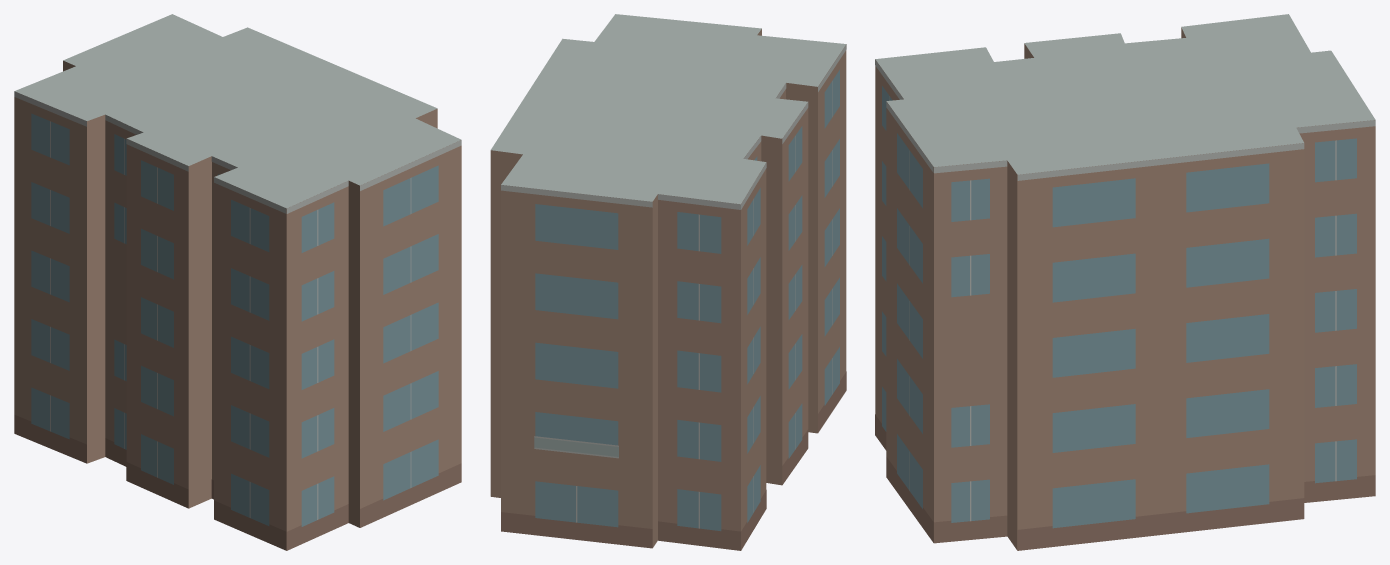
File: survey-upis-32710401.glb
3 renders of one model, left to right at view 1: azimuth 30°, elevation 25°; view 2: azimuth 150°, elevation 25°; view 3: azimuth 270°, elevation 25°, orthographic. The views are drawn at different scales.
Parts seen in each view (by area): view 1: survey-upis-32710401.tmp; view 2: survey-upis-32710401.tmp; view 3: survey-upis-32710401.tmp.
Part boxes in pixels (<box>): survey-upis-32710401.tmp: <box>14,14,461,550</box>; survey-upis-32710401.tmp: <box>490,14,846,550</box>; survey-upis-32710401.tmp: <box>875,14,1375,550</box>.
Bounding box in the file's own units: 13.48 × 14.7 × 17.74.
